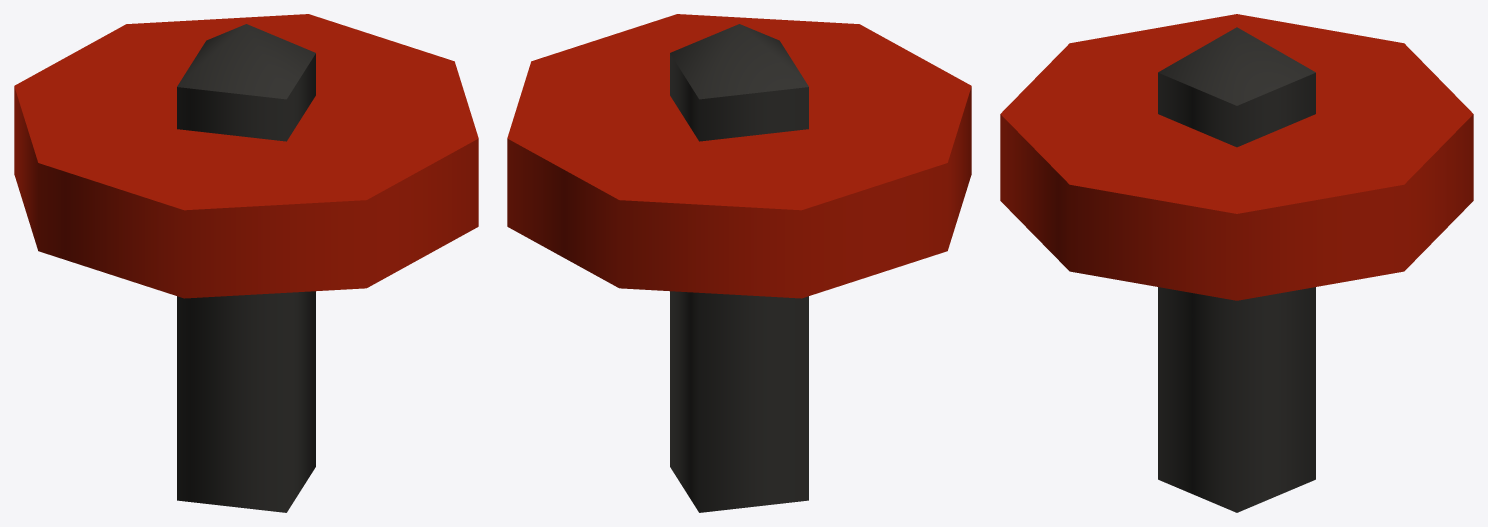
File: pipeset1_valve.fbx
The picture shows the model from 3 angles, left to right: view 1: azimuth 30°, elevation 25°; view 2: azimuth 150°, elevation 25°; view 3: azimuth 270°, elevation 25°; orthographic projection.
Parts seen in each view (by area): view 1: pipeset1_valve; view 2: pipeset1_valve; view 3: pipeset1_valve.
Boxes of the visible parts, x1=… form: pipeset1_valve: x1=14, y1=14, x2=478, y2=512; pipeset1_valve: x1=507, y1=14, x2=971, y2=512; pipeset1_valve: x1=1000, y1=14, x2=1473, y2=512.
Size of the model in its own units: 42.6 by 44.93 by 42.6.
